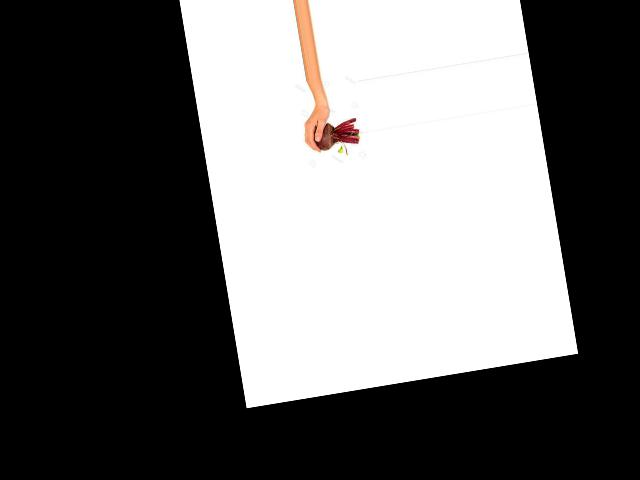beet: (311, 118, 362, 160)
